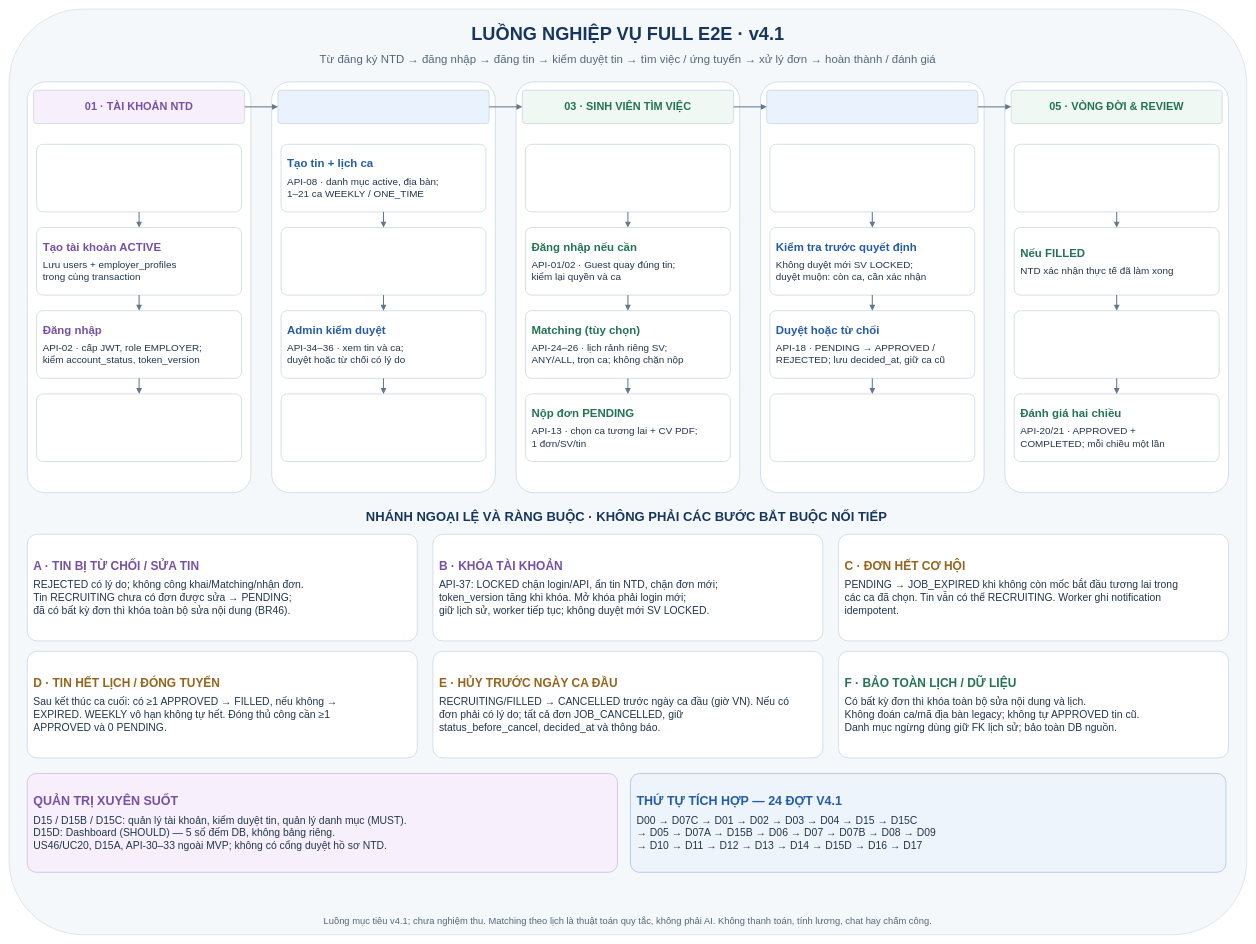
Image size: 1256x944. Some labels were removed from this diagram. The centre of each missing label's shape, as x and y in pixels:
"02 · TIN & KIỂM DUYỆT" goes at (383,107).
"04 · XỬ LÝ ỨNG VIÊN" goes at (872,107).
"COMPLETED API-19 · không tự động hoàn thành" goes at (1116,344).
"NTD xem đơn / CV API-15–17 · chỉ chủ tin, đúng quyền" goes at (872,178).
"NTD đăng ký API-01, 27–29 · hồ sơ thường, địa bàn; logo tùy chọn" goes at (139,178).
"NTD đủ quyền tạo tin ACTIVE + EMPLOYER; kiểm điều kiện nghiệp vụ" goes at (139,427).
"RECRUITING / PENDING Lưu tin và ca cùng transaction; chưa công khai" goes at (383,261).
"SV xem kết quả API-14/16/22 · thông báo cùng transaction" goes at (872,427).
"Tin APPROVED Công khai khi chủ tin ACTIVE và đủ điều kiện nhận đơn" goes at (383,427).
"Trang chủ hợp nhất API-09/10 · keyword, ngành, địa bàn, lương, lịch" goes at (627,178).
"Đóng tuyển hoặc hết lịch API-19 / worker · FILLED hoặc EXPIRED theo điều kiện" goes at (1116,178).
